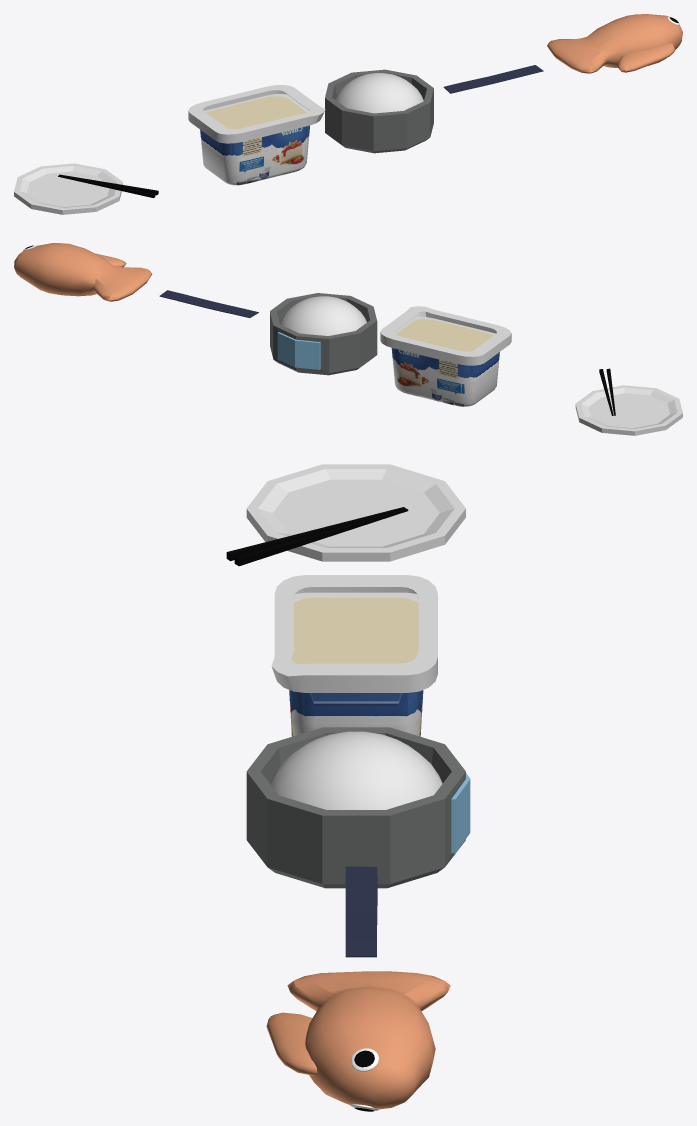
File: kit cozinha4.fbx
3 views of the same model, one above another, from view 1: azimuth 30°, elevation 25°; view 2: azimuth 150°, elevation 25°; view 3: azimuth 270°, elevation 25° (orthographic). The views are drawn at different scales.
Visible parts, largest first — view 1: Cube.005, Cylinder.001, Cube, Cylinder, Cube.003, Sphere, Cube.002, Plane, Cube.001; view 2: Cube.005, Cube, Cylinder, Cylinder.001, Cube.003, Sphere, Cube.002, Cylinder.002, Plane, Cube.001; view 3: Cylinder.001, Cube.005, Cylinder, Cube.003, Sphere, Cube.002, Cube, Plane, Cube.001, Cylinder.002.
Part boxes in pixels (left/top/right/bottom): Cube.005: left=547, top=14, right=682, bottom=73; Cylinder.001: left=325, top=69, right=433, bottom=153; Cube: left=200, top=125, right=309, bottom=185; Cylinder: left=14, top=163, right=122, bottom=214; Cube.003: left=188, top=85, right=325, bottom=143; Sphere: left=335, top=73, right=423, bottom=113; Cube.002: left=206, top=96, right=307, bottom=129; Plane: left=443, top=65, right=543, bottom=93; Cube.001: left=58, top=174, right=158, bottom=198; Cube.005: left=14, top=243, right=152, bottom=301; Cube: left=391, top=348, right=499, bottom=406; Cylinder: left=575, top=385, right=682, bottom=435; Cylinder.001: left=270, top=293, right=377, bottom=375; Cube.003: left=380, top=306, right=511, bottom=365; Sphere: left=280, top=296, right=366, bottom=335; Cube.002: left=396, top=319, right=493, bottom=351; Cylinder.002: left=277, top=332, right=320, bottom=369; Plane: left=159, top=290, right=258, bottom=317; Cube.001: left=599, top=368, right=615, bottom=415; Cylinder.001: left=246, top=727, right=465, bottom=888; Cube.005: left=266, top=971, right=450, bottom=1111; Cylinder: left=246, top=464, right=465, bottom=561; Cube.003: left=271, top=575, right=437, bottom=692; Sphere: left=270, top=731, right=442, bottom=809; Cube.002: left=291, top=597, right=418, bottom=664; Cube: left=289, top=690, right=423, bottom=736; Plane: left=345, top=866, right=377, bottom=957; Cube.001: left=226, top=507, right=408, bottom=566; Cylinder.002: left=451, top=773, right=470, bottom=853.
Bounding box in the file's own units: 1369 × 120 × 222.
